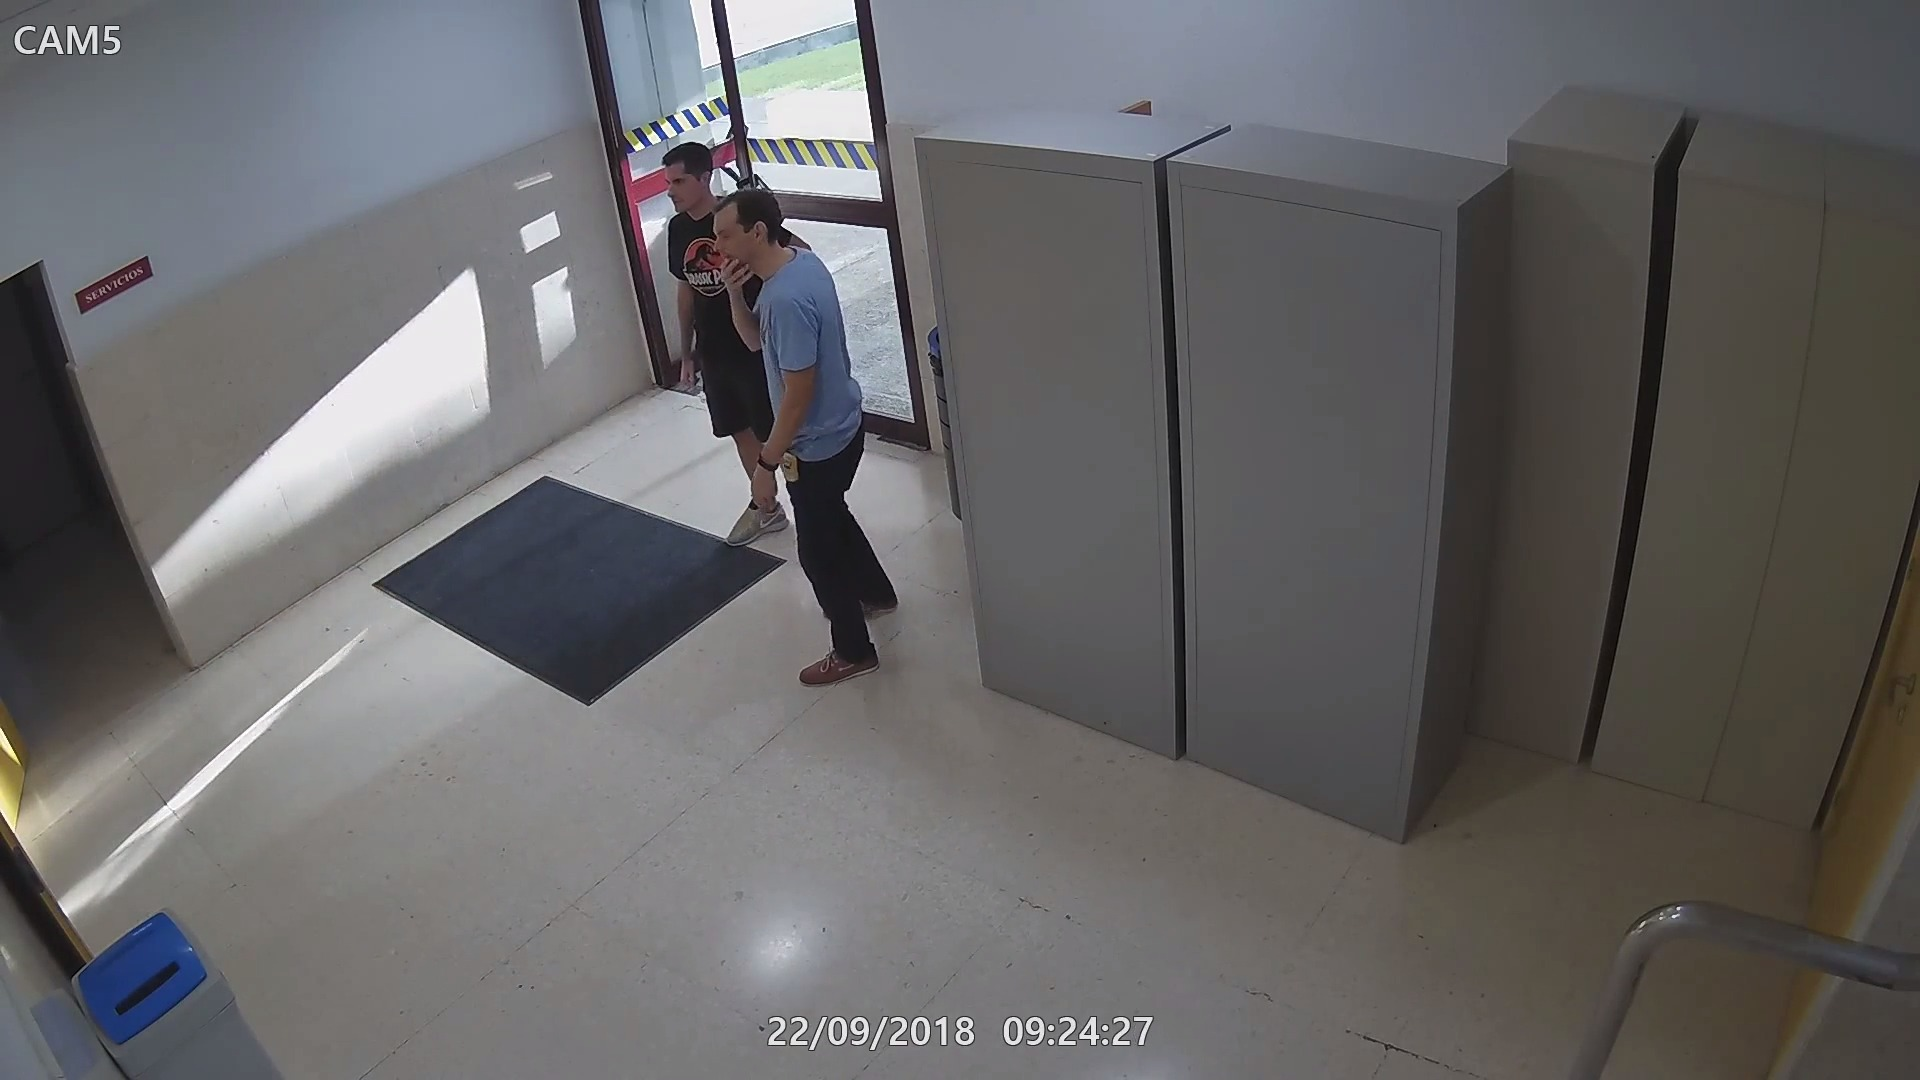Knife: (725, 465, 778, 539)
